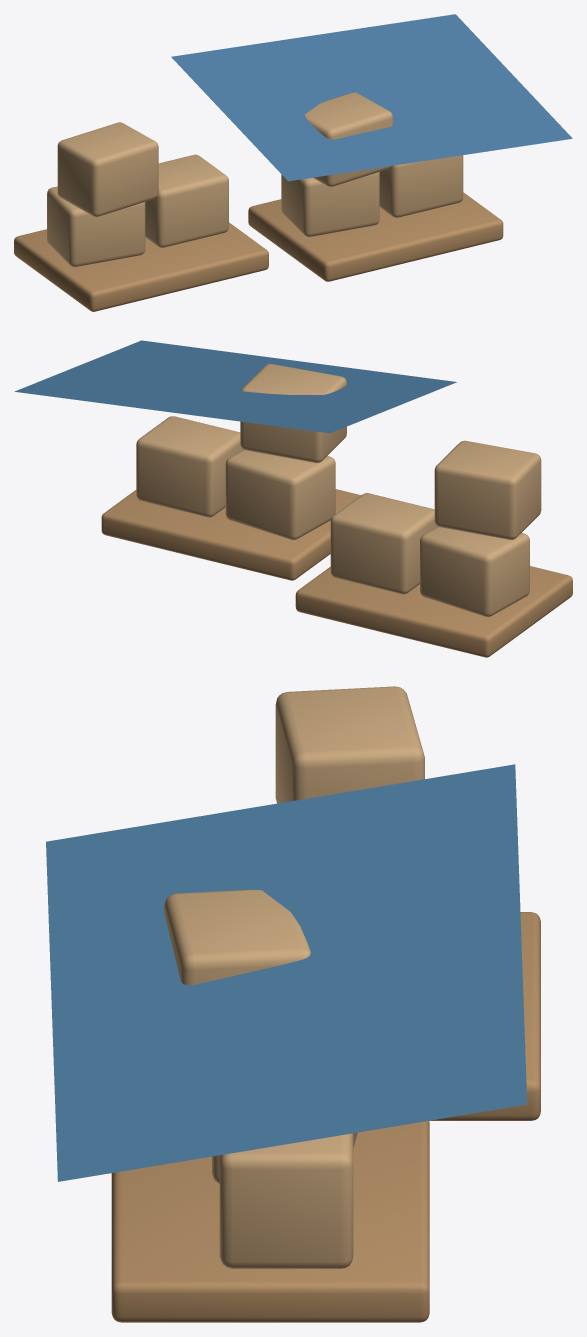
Rendered from estibas.fbx.
The picture shows the model from 3 angles, top to bottom: view 1: azimuth 30°, elevation 25°; view 2: azimuth 150°, elevation 25°; view 3: azimuth 270°, elevation 25°; orthographic projection. The views are drawn at different scales.
Visible parts, largest first — view 1: tarp, pallet_02, pallet, box_03, box_02, box, box_04, box_05, box_06; view 2: tarp, pallet, pallet_02, box_03, box_04, box_05, box_02, box, box_06; view 3: tarp, pallet_02, box_05, box_03, box_06, pallet.
Part boxes in pixels (x1,y1,x2,y2): tarp: [171, 14, 572, 181]; pallet_02: [248, 192, 503, 281]; pallet: [14, 222, 268, 311]; box_03: [57, 122, 158, 216]; box_02: [145, 154, 228, 247]; box: [47, 186, 145, 266]; box_04: [281, 172, 379, 236]; box_05: [379, 155, 463, 217]; box_06: [305, 92, 392, 186]; tarp: [14, 340, 456, 433]; pallet: [295, 566, 572, 657]; pallet_02: [101, 489, 360, 580]; box_03: [434, 440, 541, 539]; box_04: [225, 449, 335, 539]; box_05: [136, 416, 243, 517]; box_02: [330, 493, 437, 594]; box: [420, 526, 529, 616]; box_06: [240, 364, 346, 462]; tarp: [46, 764, 527, 1181]; pallet_02: [111, 1121, 429, 1322]; box_05: [219, 1133, 353, 1268]; box_03: [275, 686, 424, 803]; box_06: [164, 889, 310, 985]; pallet: [429, 912, 540, 1120].
Bounding box in the file's own units: 3.19 × 1.16 × 1.56.
